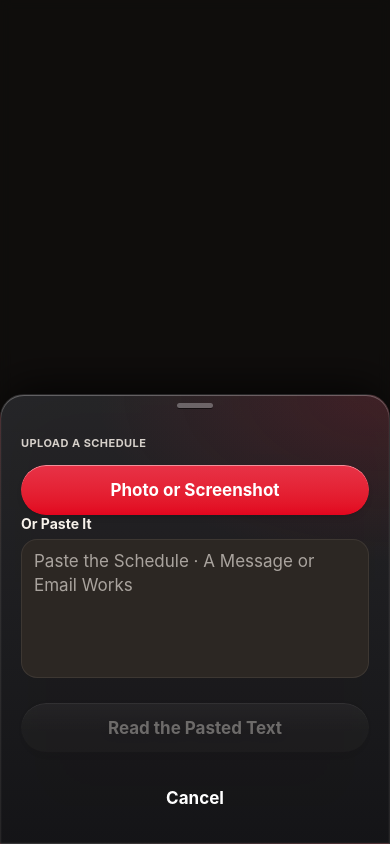
Test case: Schedule upload: a row with no time cannot be imported unreviewed › holds Add back, says how many need a time, and lets Skip release it
The width and height of the screenshot is (390, 844).
Type "anything" into the text box with placeholder "Paste the Schedule · A Message or Email Works". click: (195, 608)
box: [21, 539, 369, 678]
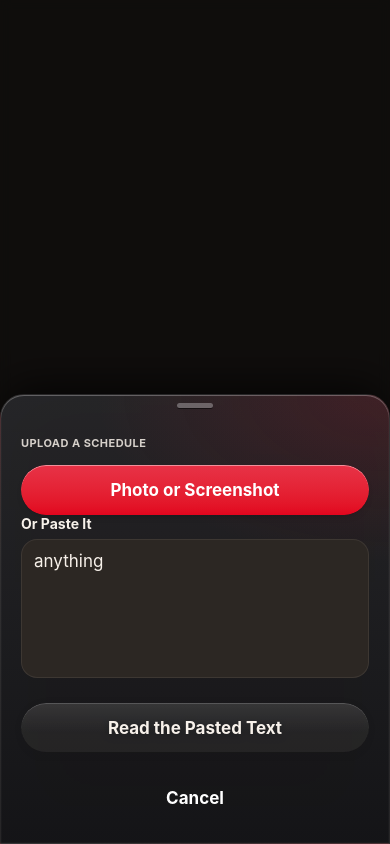
Click the button "Read the Pasted Text". click: (195, 728)
box: [21, 703, 369, 753]
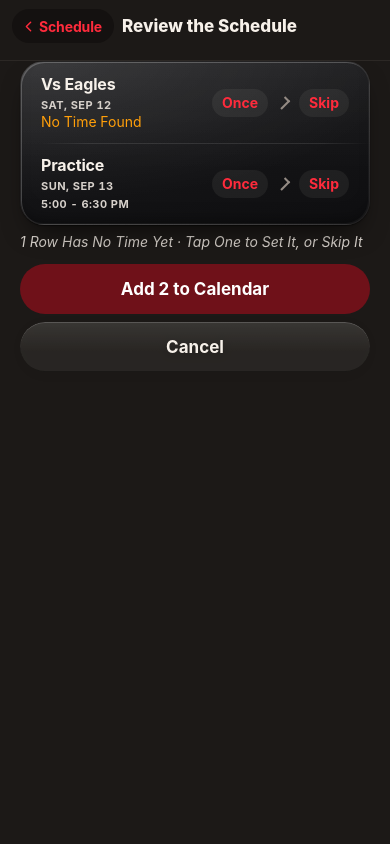
Expected: the text "Review the Schedule" is shown, [122, 15, 297, 37]
Expected: the text "No Time Found" is shown, [41, 113, 142, 131]
Expected: the button "Add 2 to Calendar" is disabled, [20, 264, 370, 314]
Click the 1st button "Skip". click: (324, 103)
box: [299, 89, 349, 117]
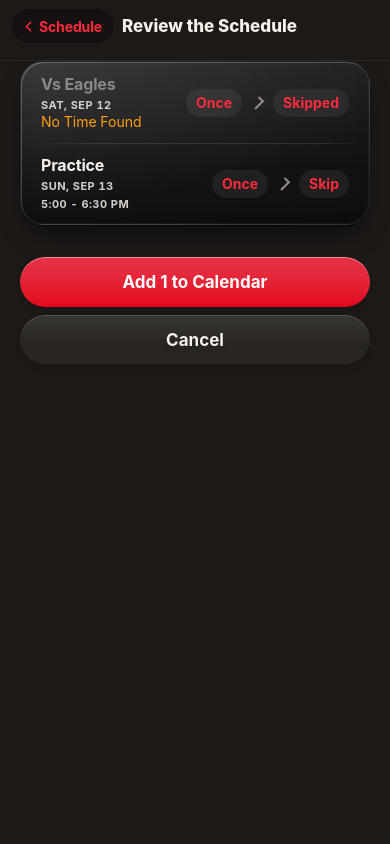
Expected: the button "Add 1 to Calendar" is enabled, [20, 257, 370, 307]
Expected: the text "No Time Yet" is gone
